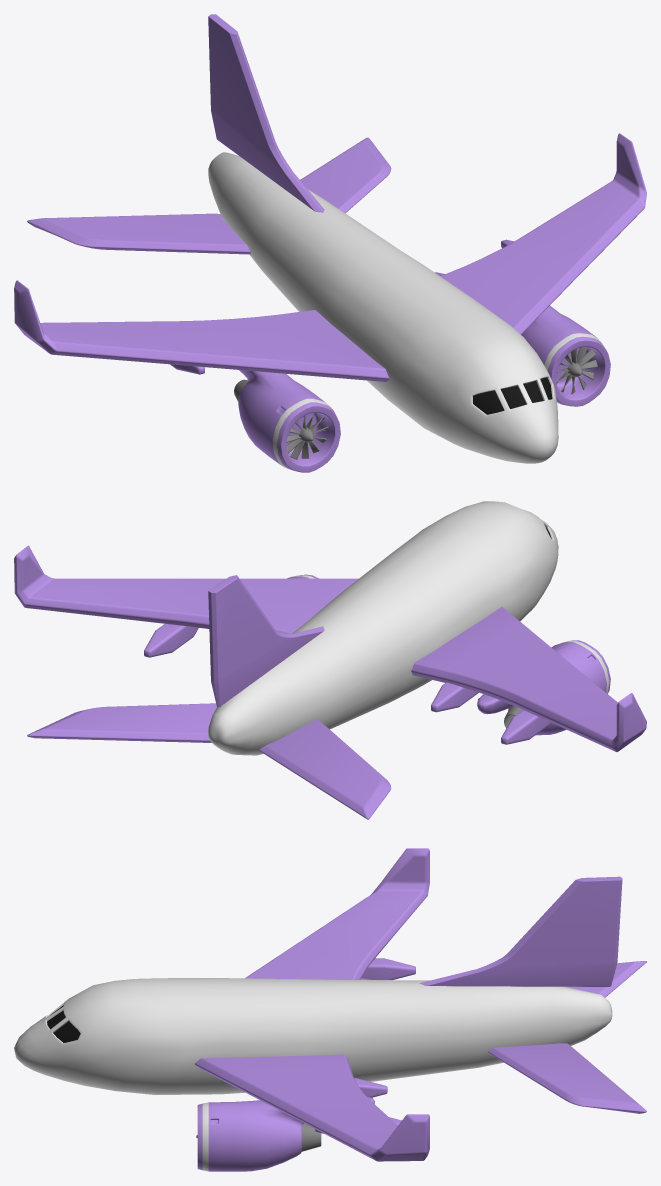
3 views of the same model, one above another, from view 1: azimuth 30°, elevation 25°; view 2: azimuth 150°, elevation 25°; view 3: azimuth 270°, elevation 25° (orthographic). The views are drawn at different scales.
Parts seen in each view (by area): view 1: Cube.008, Plane.001, Cube.004, Plane.002, Plane, Plane.003, Cube.008_Plate; view 2: Cube.008, Plane.001, Plane.002, Plane, Cube.004, Cube.003, Cube; view 3: Cube.008, Plane.001, Plane, Cube.004, Plane.002, Cube.003, Cube.008_Plate.
Part boxes in pixels (left/top/right/bottom): Cube.008: left=208, top=152, right=558, bottom=463; Plane.001: left=14, top=133, right=646, bottom=381; Cube.004: left=238, top=306, right=610, bottom=472; Plane.002: left=27, top=137, right=391, bottom=254; Plane: left=208, top=14, right=324, bottom=212; Plane.003: left=286, top=346, right=597, bottom=459; Cube.008_Plate: left=473, top=377, right=552, bottom=414; Cube.008: left=208, top=501, right=558, bottom=755; Plane.001: left=14, top=545, right=646, bottom=751; Plane.002: left=27, top=703, right=391, bottom=819; Plane: left=208, top=575, right=324, bottom=707; Cube.004: left=287, top=574, right=610, bottom=735; Cube.003: left=144, top=624, right=551, bottom=744; Cube: left=431, top=682, right=478, bottom=712; Cube.008: left=14, top=978, right=612, bottom=1094; Plane.001: left=194, top=848, right=429, bottom=1161; Plane: left=419, top=876, right=622, bottom=986; Cube.004: left=197, top=978, right=374, bottom=1171; Plane.002: left=488, top=961, right=646, bottom=1113; Cube.003: left=315, top=958, right=415, bottom=1133; Cube.008_Plate: left=47, top=1005, right=80, bottom=1042.
Size of the model in its own units: 1408 by 562 by 1394.
